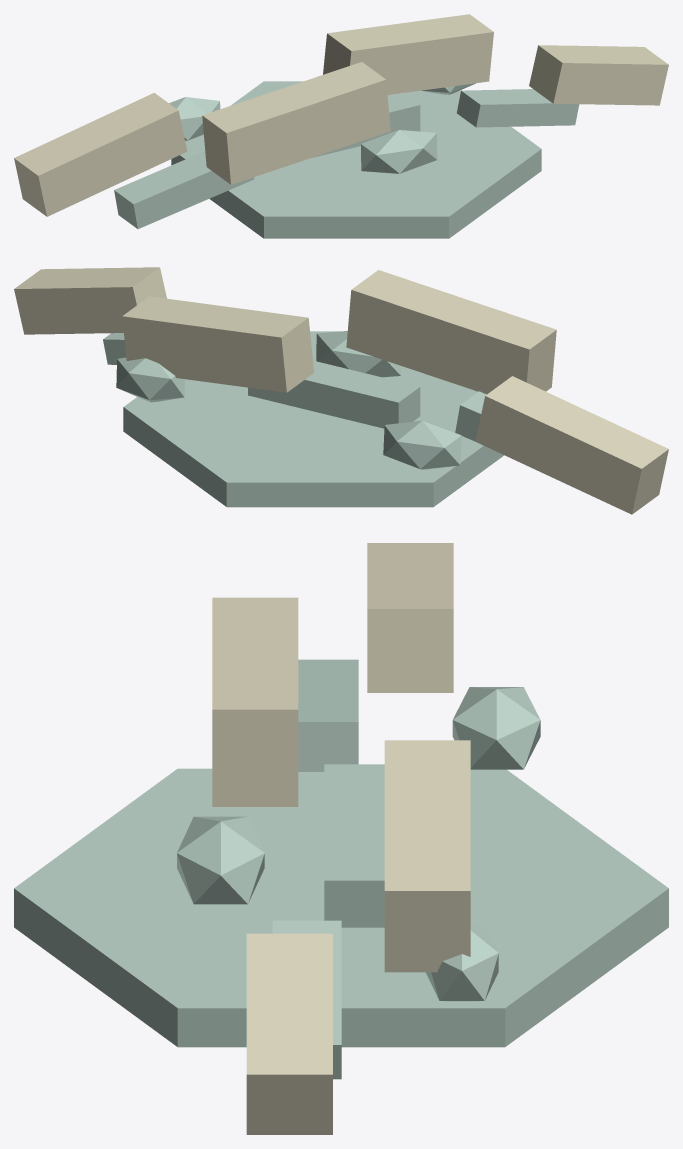
File: COASTAL_WATER_EDGE_001_LOD_CLOSE.glb
3 renders of one model, top to bottom at view 1: azimuth 30°, elevation 25°; view 2: azimuth 150°, elevation 25°; view 3: azimuth 270°, elevation 25°, orthographic. The views are drawn at different scales.
Parts seen in each view (by area): view 1: COASTAL_WATER_EDGE_001_LOD_CLOSE_GROUND_SOCKET, COASTAL_WATER_EDGE_001_LOD_CLOSE_BANK_002, COASTAL_WATER_EDGE_001_LOD_CLOSE_BANK_001, COASTAL_WATER_EDGE_001_LOD_CLOSE_BANK_003, COASTAL_WATER_EDGE_001_LOD_CLOSE_BANK_004, COASTAL_WATER_EDGE_001_LOD_CLOSE_WET_001, COASTAL_WATER_EDGE_001_LOD_CLOSE_WET_003, COASTAL_WATER_EDGE_001_LOD_CLOSE_PEBBLE_002, COASTAL_WATER_EDGE_001_LOD_CLOSE_WET_002, COASTAL_WATER_EDGE_001_LOD_CLOSE_PEBBLE_001; view 2: COASTAL_WATER_EDGE_001_LOD_CLOSE_GROUND_SOCKET, COASTAL_WATER_EDGE_001_LOD_CLOSE_BANK_002, COASTAL_WATER_EDGE_001_LOD_CLOSE_BANK_001, COASTAL_WATER_EDGE_001_LOD_CLOSE_BANK_003, COASTAL_WATER_EDGE_001_LOD_CLOSE_BANK_004, COASTAL_WATER_EDGE_001_LOD_CLOSE_WET_002, COASTAL_WATER_EDGE_001_LOD_CLOSE_PEBBLE_001, COASTAL_WATER_EDGE_001_LOD_CLOSE_PEBBLE_003, COASTAL_WATER_EDGE_001_LOD_CLOSE_PEBBLE_002, COASTAL_WATER_EDGE_001_LOD_CLOSE_WET_001, COASTAL_WATER_EDGE_001_LOD_CLOSE_WET_003; view 3: COASTAL_WATER_EDGE_001_LOD_CLOSE_GROUND_SOCKET, COASTAL_WATER_EDGE_001_LOD_CLOSE_BANK_003, COASTAL_WATER_EDGE_001_LOD_CLOSE_BANK_002, COASTAL_WATER_EDGE_001_LOD_CLOSE_BANK_004, COASTAL_WATER_EDGE_001_LOD_CLOSE_BANK_001, COASTAL_WATER_EDGE_001_LOD_CLOSE_WET_002, COASTAL_WATER_EDGE_001_LOD_CLOSE_WET_001, COASTAL_WATER_EDGE_001_LOD_CLOSE_PEBBLE_002, COASTAL_WATER_EDGE_001_LOD_CLOSE_PEBBLE_001, COASTAL_WATER_EDGE_001_LOD_CLOSE_PEBBLE_003, COASTAL_WATER_EDGE_001_LOD_CLOSE_WET_003.
Boxes of the visible parts, left/top/right/bottom form: COASTAL_WATER_EDGE_001_LOD_CLOSE_GROUND_SOCKET: left=171, top=81, right=541, bottom=238; COASTAL_WATER_EDGE_001_LOD_CLOSE_BANK_002: left=202, top=62, right=390, bottom=184; COASTAL_WATER_EDGE_001_LOD_CLOSE_BANK_001: left=14, top=92, right=187, bottom=216; COASTAL_WATER_EDGE_001_LOD_CLOSE_BANK_003: left=323, top=14, right=493, bottom=94; COASTAL_WATER_EDGE_001_LOD_CLOSE_BANK_004: left=529, top=45, right=668, bottom=105; COASTAL_WATER_EDGE_001_LOD_CLOSE_WET_001: left=114, top=151, right=254, bottom=228; COASTAL_WATER_EDGE_001_LOD_CLOSE_WET_003: left=457, top=89, right=579, bottom=127; COASTAL_WATER_EDGE_001_LOD_CLOSE_PEBBLE_002: left=361, top=130, right=437, bottom=173; COASTAL_WATER_EDGE_001_LOD_CLOSE_WET_002: left=312, top=92, right=420, bottom=157; COASTAL_WATER_EDGE_001_LOD_CLOSE_PEBBLE_001: left=169, top=97, right=220, bottom=140; COASTAL_WATER_EDGE_001_LOD_CLOSE_GROUND_SOCKET: left=123, top=331, right=504, bottom=507; COASTAL_WATER_EDGE_001_LOD_CLOSE_BANK_002: left=346, top=270, right=556, bottom=394; COASTAL_WATER_EDGE_001_LOD_CLOSE_BANK_001: left=475, top=376, right=668, bottom=514; COASTAL_WATER_EDGE_001_LOD_CLOSE_BANK_003: left=122, top=296, right=313, bottom=392; COASTAL_WATER_EDGE_001_LOD_CLOSE_BANK_004: left=14, top=267, right=166, bottom=334; COASTAL_WATER_EDGE_001_LOD_CLOSE_WET_002: left=248, top=360, right=420, bottom=428; COASTAL_WATER_EDGE_001_LOD_CLOSE_PEBBLE_001: left=383, top=420, right=461, bottom=469; COASTAL_WATER_EDGE_001_LOD_CLOSE_PEBBLE_003: left=116, top=357, right=184, bottom=402; COASTAL_WATER_EDGE_001_LOD_CLOSE_PEBBLE_002: left=316, top=331, right=400, bottom=377; COASTAL_WATER_EDGE_001_LOD_CLOSE_WET_001: left=455, top=391, right=486, bottom=441; COASTAL_WATER_EDGE_001_LOD_CLOSE_WET_003: left=103, top=333, right=126, bottom=364; COASTAL_WATER_EDGE_001_LOD_CLOSE_GROUND_SOCKET: left=14, top=768, right=668, bottom=1047; COASTAL_WATER_EDGE_001_LOD_CLOSE_BANK_003: left=384, top=740, right=470, bottom=972; COASTAL_WATER_EDGE_001_LOD_CLOSE_BANK_002: left=212, top=597, right=298, bottom=806; COASTAL_WATER_EDGE_001_LOD_CLOSE_BANK_004: left=246, top=933, right=332, bottom=1134; COASTAL_WATER_EDGE_001_LOD_CLOSE_BANK_001: left=367, top=543, right=453, bottom=692; COASTAL_WATER_EDGE_001_LOD_CLOSE_WET_002: left=324, top=764, right=384, bottom=927; COASTAL_WATER_EDGE_001_LOD_CLOSE_WET_001: left=298, top=659, right=358, bottom=771; COASTAL_WATER_EDGE_001_LOD_CLOSE_PEBBLE_002: left=177, top=816, right=264, bottom=904; COASTAL_WATER_EDGE_001_LOD_CLOSE_PEBBLE_001: left=452, top=687, right=540, bottom=769; COASTAL_WATER_EDGE_001_LOD_CLOSE_PEBBLE_003: left=426, top=923, right=498, bottom=1001; COASTAL_WATER_EDGE_001_LOD_CLOSE_WET_003: left=272, top=920, right=341, bottom=1079.
Bounding box in the file's own units: 1.41 × 0.2763 × 0.76.
